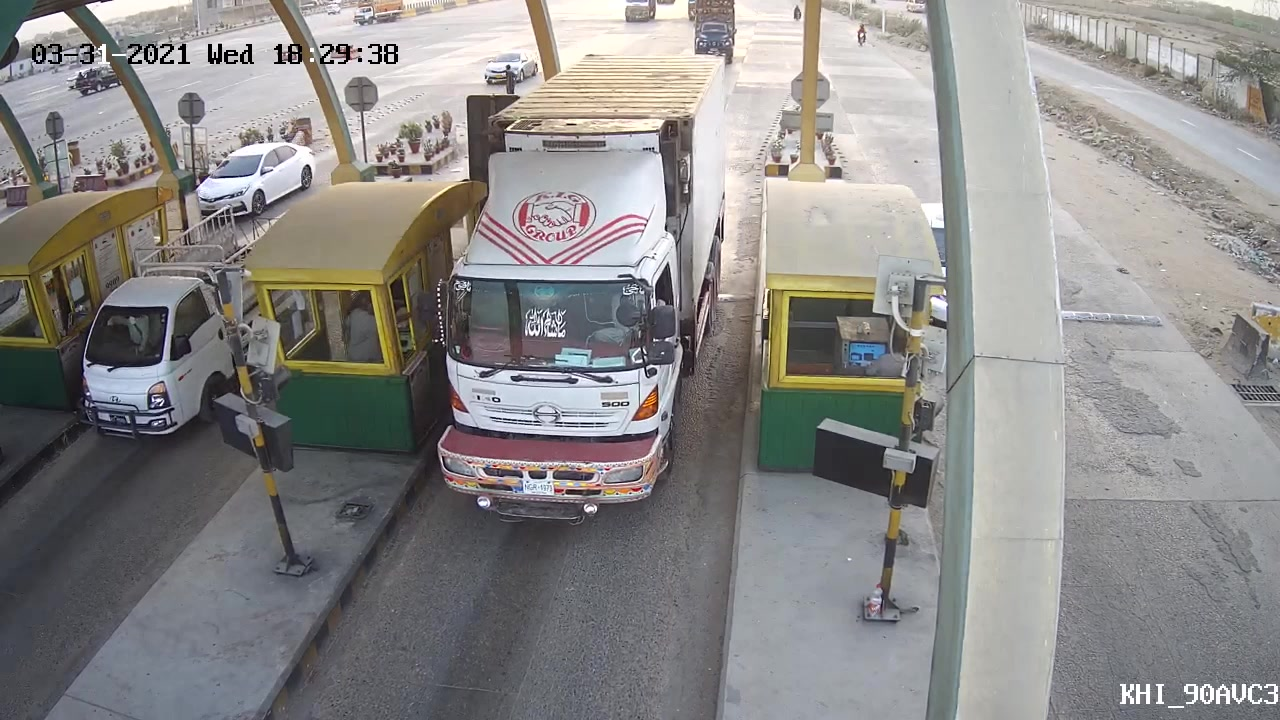F6: (408, 48, 732, 525)
